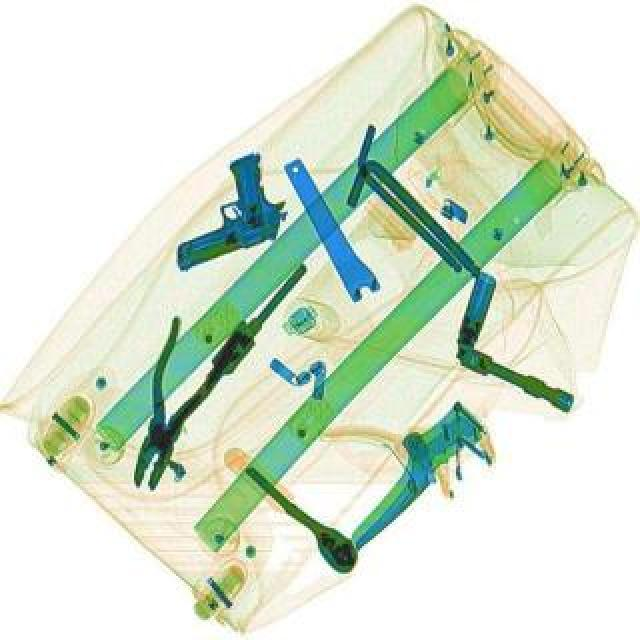gun: (150, 146, 300, 270)
wrench: (110, 304, 250, 498)
